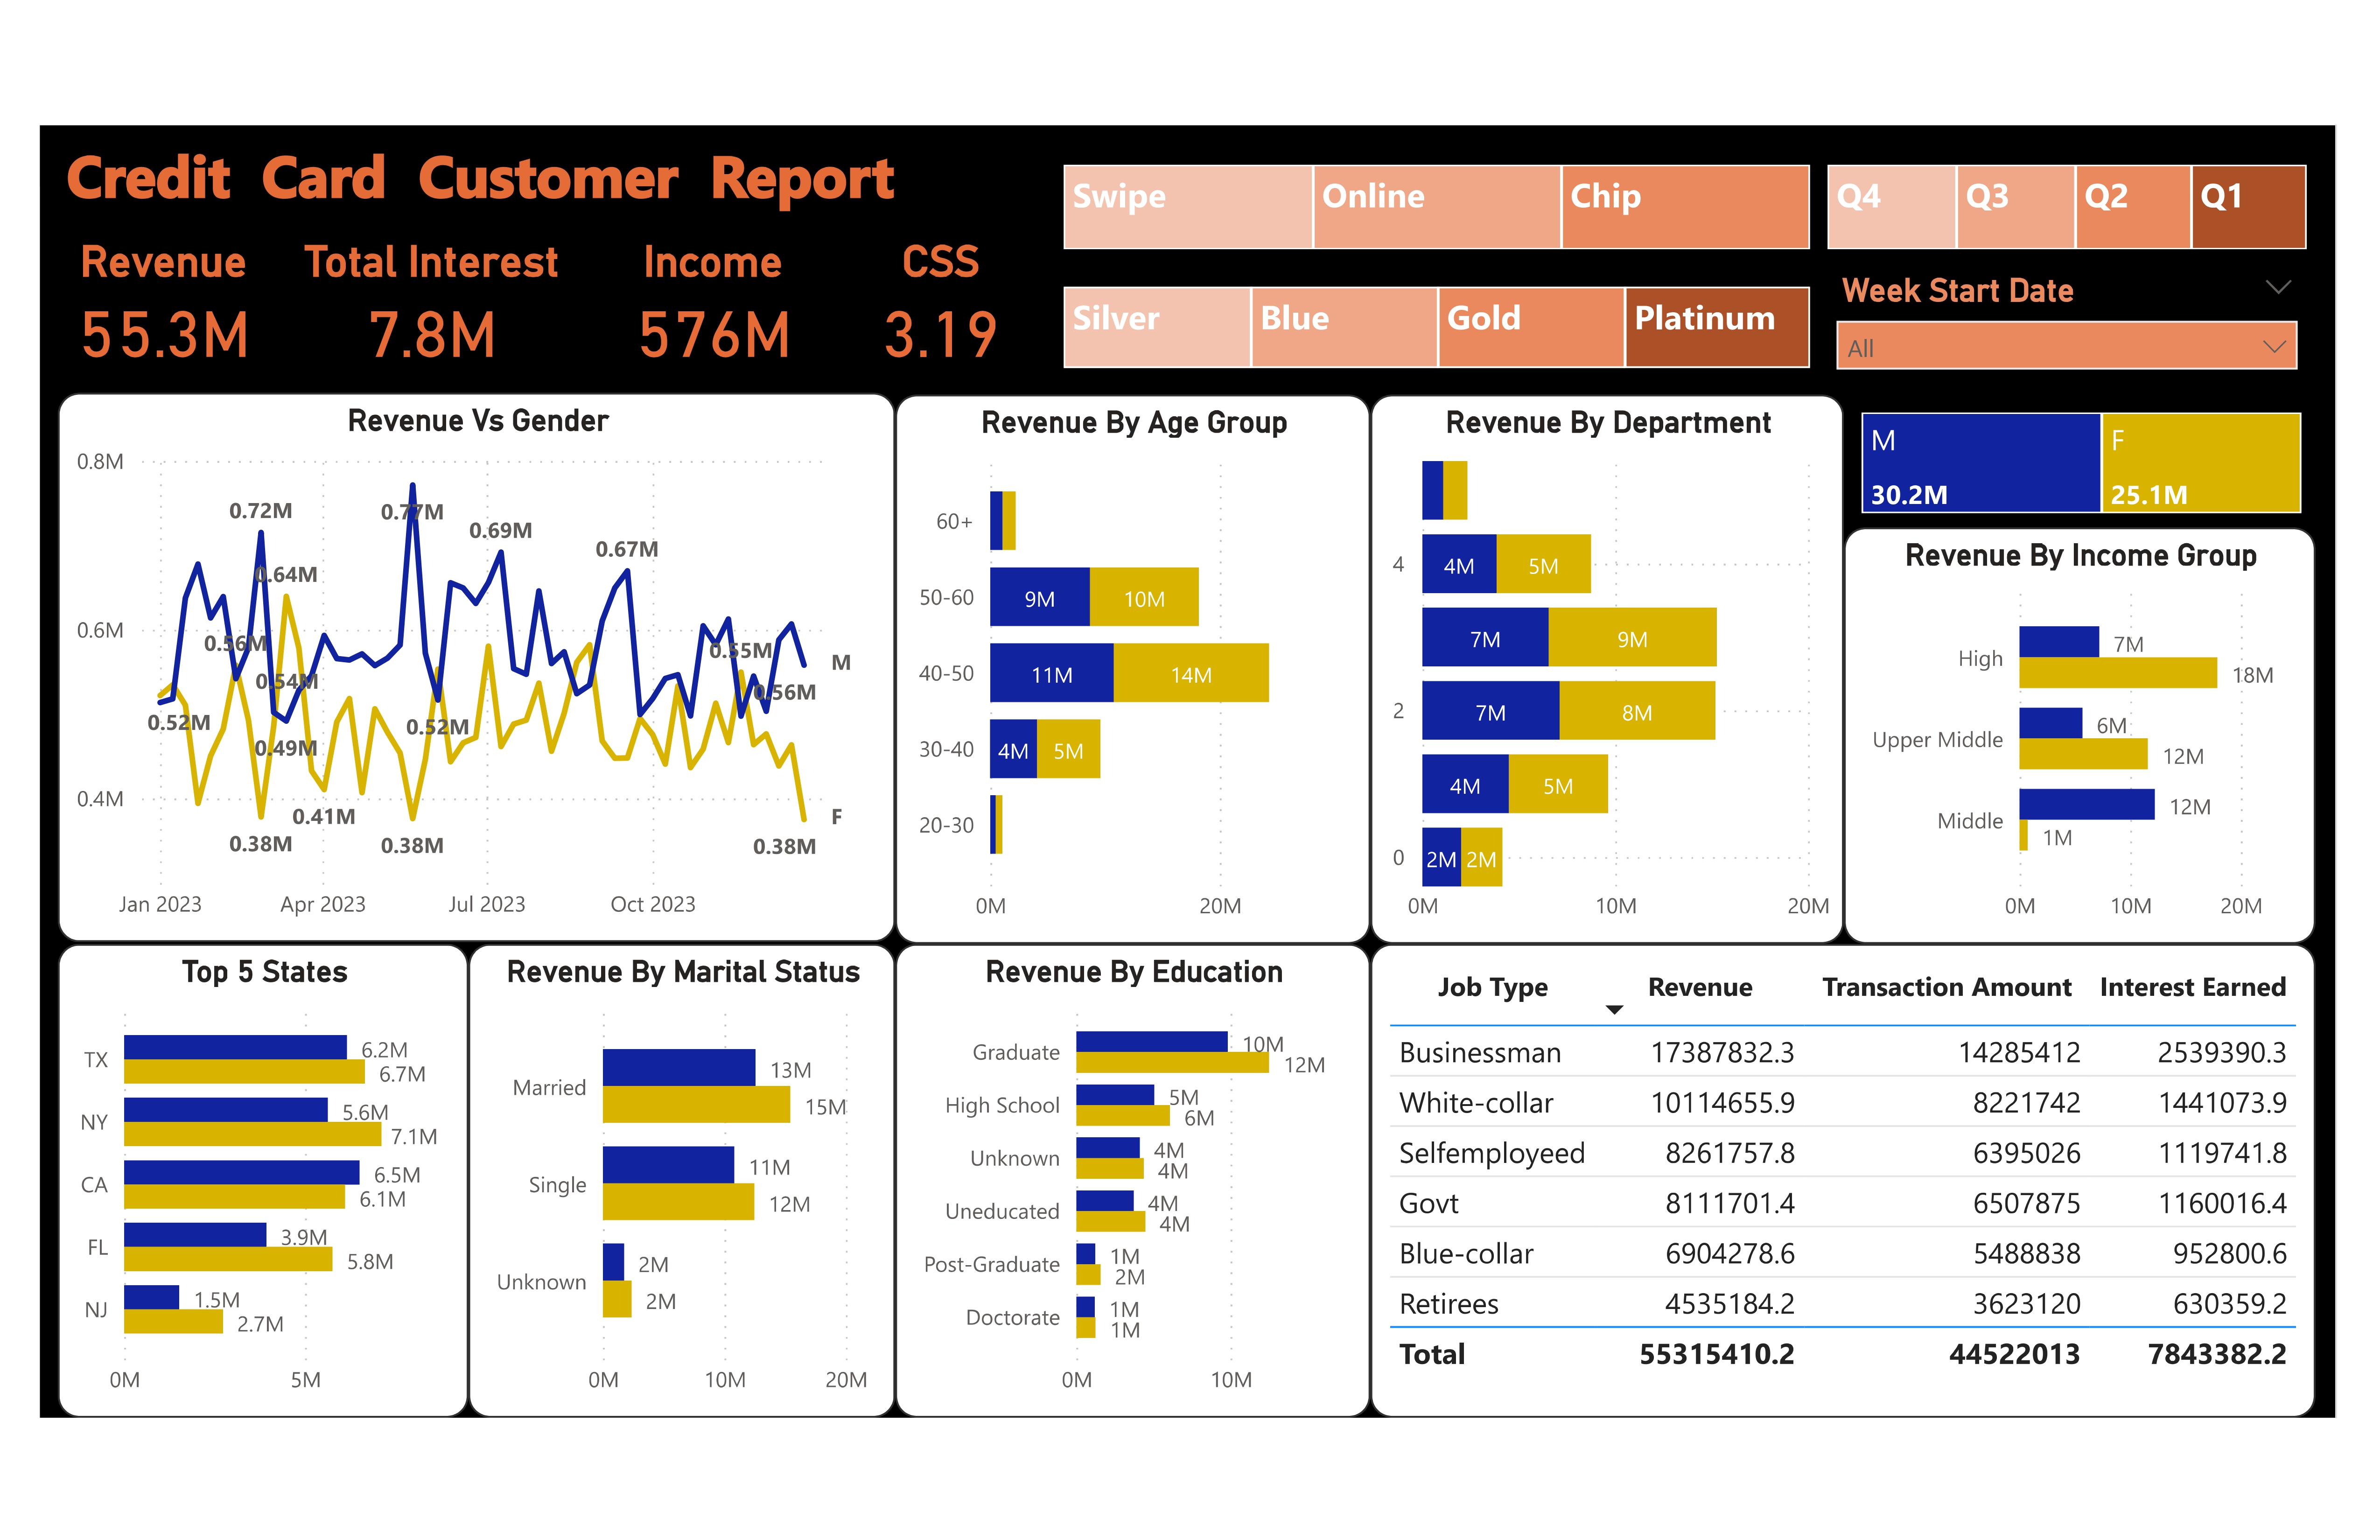

Layout of this report page (visuals, bound fields, positions):
{"tool":"powerbi","page":{"name":"Credit Card Customer Report","canvas":[1280,720],"ordinal":1},"visuals":[{"type":"textbox","box":[9.7,0,556,57],"z":0},{"type":"lineChart","title":"Revenue Vs Gender","fields":{"Y":["Sum(public cc_detail.Revenue)"],"Series":["public cust_detail.gender"],"Category":["public cc_detail.week_start_date.Variation.Date Hierarchy.Year","public cc_detail.week_start_date.Variation.Date Hierarchy.Quarter","public cc_detail.week_start_date.Variation.Date Hierarchy.Month","public cc_detail.week_start_date.Variation.Date Hierarchy.Day"]},"box":[9.7,148.7,467,305.8],"z":1000},{"type":"tableEx","fields":{"Values":["public cust_detail.customer_job","Sum(public cc_detail.Revenue)","Sum(public cc_detail.total_trans_amt)","Sum(public cc_detail.interest_earned)"]},"box":[742.2,455.9,526.8,264.1],"z":2000},{"type":"card","title":"Revenue","fields":{"Values":["Sum(public cc_detail.Revenue)"]},"box":[9.3,56.7,117.5,83.5],"z":3000},{"type":"card","title":"Total Interest","fields":{"Values":["Sum(public cc_detail.interest_earned)"]},"box":[125.1,57,184.9,83.4],"z":4000},{"type":"card","title":"Income","fields":{"Values":["Sum(public cust_detail.income)"]},"box":[310,57,129.3,83.4],"z":5000},{"type":"card","title":"CSS","fields":{"Values":["Avg(public cust_detail.cust_satisfaction_score)"]},"box":[439.2,57,125.1,83.4],"z":6000},{"type":"slicer","fields":{"Values":["public cc_detail.week_start_date"]},"box":[992.4,76.4,276.6,73.7],"z":7000},{"type":"treemap","fields":{"Group":["public cc_detail.qtr"],"Values":["Avg(public cc_detail.client_num)"]},"box":[992.4,16.7,276.6,57],"z":8000},{"type":"treemap","fields":{"Values":["Avg(public cc_detail.client_num)"],"Group":["public cc_detail.use_chip"]},"box":[565.7,16.7,426.7,57],"z":9000},{"type":"treemap","fields":{"Group":["public cust_detail.gender"],"Values":["Sum(public cc_detail.Revenue)"]},"box":[1006.3,150.1,262.7,73.7],"z":10000},{"type":"barChart","title":"Revenue By Department","fields":{"Category":["public cust_detail.dependent_count"],"Y":["Sum(public cc_detail.Revenue)"],"Series":["public cust_detail.gender"]},"box":[742.2,150.1,264.1,305.8],"z":11000},{"type":"barChart","title":"Revenue By Age Group","fields":{"Category":["public cust_detail.AgeGroup"],"Y":["Sum(public cc_detail.Revenue)"],"Series":["public cust_detail.gender"]},"box":[476.8,150.1,265.5,305.8],"z":12000},{"type":"clusteredBarChart","title":"Revenue By Marital Status","fields":{"Y":["Sum(public cc_detail.Revenue)"],"Category":["public cust_detail.marital_status"],"Series":["public cust_detail.gender"]},"box":[239.1,455.9,237.7,264.1],"z":13000},{"type":"clusteredBarChart","title":"Top 5 States","fields":{"Y":["Sum(public cc_detail.Revenue)"],"Category":["public cust_detail.state_cd"],"Series":["public cust_detail.gender"]},"box":[10,456.1,229.5,263.7],"z":14000},{"type":"clusteredBarChart","title":"Revenue By Education","fields":{"Y":["Sum(public cc_detail.Revenue)"],"Category":["public cust_detail.education_level"],"Series":["public cust_detail.gender"]},"box":[476.8,455.9,265.5,264.1],"z":15000},{"type":"treemap","fields":{"Values":["Avg(public cc_detail.client_num)"],"Group":["public cc_detail.card_category"]},"box":[565.7,84.8,426.7,55.6],"z":16000},{"type":"clusteredBarChart","title":"Revenue By Income Group","fields":{"Category":["public cust_detail.IncomeGroup"],"Y":["Sum(public cc_detail.Revenue)"],"Series":["public cust_detail.gender"]},"box":[1006.3,223.8,262.7,232.1],"z":17000}]}

Visuals, with their boxes on the page's 1280x720 design canvas (x1, y1, x2, y2). These are canvas units, not pixel positions in the 2380x1540 screenshot, which may show the page scaled, cropped or inside an application window:
textbox: bbox=(10, 0, 566, 57)
"Revenue Vs Gender" lineChart: bbox=(10, 149, 477, 454)
tableEx - public cust_detail.customer_job x Sum(public cc_detail.Revenue): bbox=(742, 456, 1269, 720)
"Revenue" card: bbox=(9, 57, 127, 140)
"Total Interest" card: bbox=(125, 57, 310, 140)
"Income" card: bbox=(310, 57, 439, 140)
"CSS" card: bbox=(439, 57, 564, 140)
slicer - public cc_detail.week_start_date: bbox=(992, 76, 1269, 150)
treemap - public cc_detail.qtr x Avg(public cc_detail.client_num): bbox=(992, 17, 1269, 74)
treemap - Avg(public cc_detail.client_num) x public cc_detail.use_chip: bbox=(566, 17, 992, 74)
treemap - public cust_detail.gender x Sum(public cc_detail.Revenue): bbox=(1006, 150, 1269, 224)
"Revenue By Department" barChart: bbox=(742, 150, 1006, 456)
"Revenue By Age Group" barChart: bbox=(477, 150, 742, 456)
"Revenue By Marital Status" clusteredBarChart: bbox=(239, 456, 477, 720)
"Top 5 States" clusteredBarChart: bbox=(10, 456, 240, 720)
"Revenue By Education" clusteredBarChart: bbox=(477, 456, 742, 720)
treemap - Avg(public cc_detail.client_num) x public cc_detail.card_category: bbox=(566, 85, 992, 140)
"Revenue By Income Group" clusteredBarChart: bbox=(1006, 224, 1269, 456)
